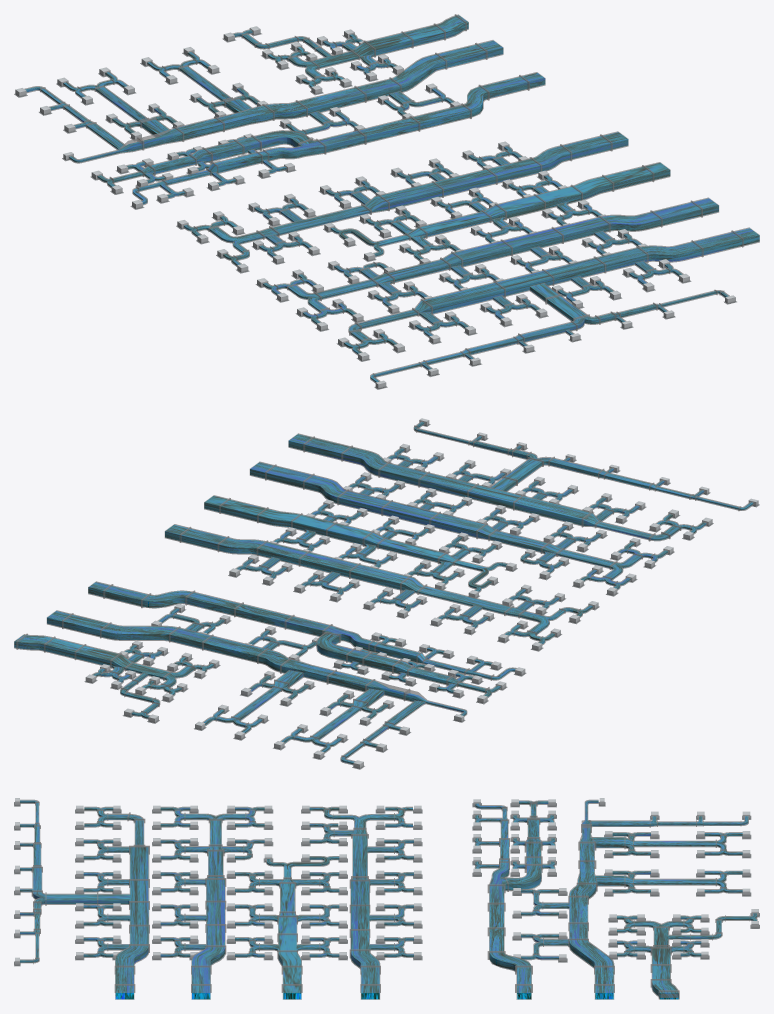
Rendered from JiGuangLou_Opacity_Light.FBX.
3 renders of one model, top to bottom at view 1: azimuth 30°, elevation 25°; view 2: azimuth 150°, elevation 25°; view 3: azimuth 270°, elevation 25°, orthographic. The views are drawn at different scales.
Visible parts, largest first — view 1: Aircondition_ALKO06PIPE, Aircondition_ALKO01PIPE, Aircondition_ALKO06PIPE_LIQUID, Aircondition_ALKO05PIPE, Aircondition_ALKO01PIPE_LIQUID, Aircondition_ALKO03PIPE, Aircondition_ALKO02PIPE, Aircondition_ALKO04PIPE, Aircondition_ALKO05PIPE_LIQUID, Aircondition_ALKO02PIPE_LIQUID, Aircondition_ALKO03PIPE_LIQUID, Aircondition_ALKO04PIPE_LIQUID (+2 smaller); view 2: Aircondition_ALKO01PIPE, Aircondition_ALKO06PIPE, Aircondition_ALKO01PIPE_LIQUID, Aircondition_ALKO03PIPE, Aircondition_ALKO06PIPE_LIQUID, Aircondition_ALKO05PIPE, Aircondition_ALKO02PIPE, Aircondition_ALKO04PIPE, Aircondition_ALKO03PIPE_LIQUID, Aircondition_ALKO02PIPE_LIQUID, Aircondition_ALKO05PIPE_LIQUID, Aircondition_ALKO04PIPE_LIQUID (+2 smaller); view 3: Aircondition_ALKO01PIPE, Aircondition_ALKO06PIPE, Aircondition_ALKO01PIPE_LIQUID, Aircondition_ALKO05PIPE, Aircondition_ALKO03PIPE, Aircondition_ALKO06PIPE_LIQUID, Aircondition_ALKO04PIPE, Aircondition_ALKO05PIPE_LIQUID, Aircondition_ALKO02PIPE, Aircondition_ALKO03PIPE_LIQUID, Aircondition_ALKO04PIPE_LIQUID, Aircondition_ALKO02PIPE_LIQUID (+2 smaller).
Part boxes in pixels (x1,y1,x2,y2): Aircondition_ALKO06PIPE: (343,227,759,383); Aircondition_ALKO01PIPE: (24,40,503,163); Aircondition_ALKO06PIPE_LIQUID: (344,228,759,382); Aircondition_ALKO05PIPE: (262,197,719,325); Aircondition_ALKO01PIPE_LIQUID: (25,40,503,162); Aircondition_ALKO03PIPE: (183,131,628,266); Aircondition_ALKO02PIPE: (97,72,545,205); Aircondition_ALKO04PIPE: (330,162,670,261); Aircondition_ALKO05PIPE_LIQUID: (263,198,718,323); Aircondition_ALKO02PIPE_LIQUID: (97,73,545,204); Aircondition_ALKO03PIPE_LIQUID: (184,132,628,265); Aircondition_ALKO04PIPE_LIQUID: (331,163,670,259); Aircondition_ALKO01PIPE: (46,607,467,765); Aircondition_ALKO06PIPE: (288,421,753,541); Aircondition_ALKO01PIPE_LIQUID: (47,608,466,764); Aircondition_ALKO03PIPE: (164,524,593,645); Aircondition_ALKO06PIPE_LIQUID: (288,422,753,540); Aircondition_ALKO05PIPE: (249,461,668,590); Aircondition_ALKO02PIPE: (88,581,516,697); Aircondition_ALKO04PIPE: (204,495,508,592); Aircondition_ALKO03PIPE_LIQUID: (165,525,592,643); Aircondition_ALKO02PIPE_LIQUID: (88,582,515,696); Aircondition_ALKO05PIPE_LIQUID: (250,462,667,588); Aircondition_ALKO04PIPE_LIQUID: (204,496,506,591); Aircondition_ALKO01PIPE: (521,799,748,999); Aircondition_ALKO06PIPE: (20,799,149,999); Aircondition_ALKO01PIPE_LIQUID: (521,800,748,999); Aircondition_ALKO05PIPE: (160,806,264,999); Aircondition_ALKO03PIPE: (309,806,413,999); Aircondition_ALKO06PIPE_LIQUID: (20,800,148,999); Aircondition_ALKO04PIPE: (235,856,339,999); Aircondition_ALKO05PIPE_LIQUID: (160,807,264,999); Aircondition_ALKO02PIPE: (474,800,555,999); Aircondition_ALKO03PIPE_LIQUID: (309,807,413,999); Aircondition_ALKO04PIPE_LIQUID: (235,856,339,999); Aircondition_ALKO02PIPE_LIQUID: (475,801,554,999).
Size of the model in its own units: 4814 by 142 by 7620.
